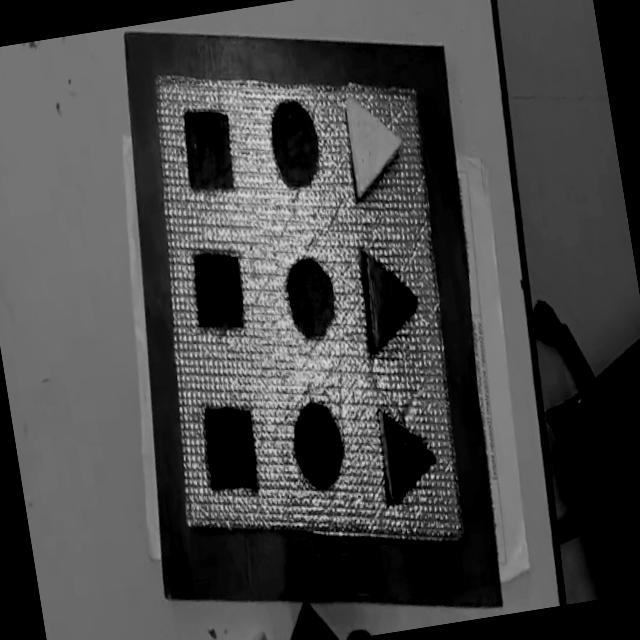btriangle: (379, 409, 436, 504)
mtcircle: (286, 397, 352, 496), (266, 97, 326, 193), (281, 254, 342, 346)
mtcube: (196, 398, 266, 500), (186, 245, 252, 339), (178, 104, 240, 198)
rtriangle: (360, 250, 418, 352)
wb: (117, 36, 486, 584)
ytriangle: (341, 90, 412, 202)
